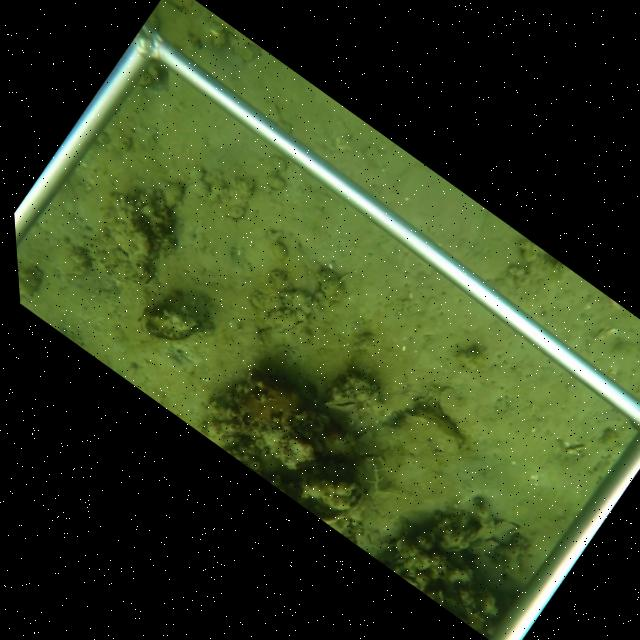Oyster-Closed: (137, 314, 204, 346), (257, 310, 310, 342), (322, 397, 363, 416)
